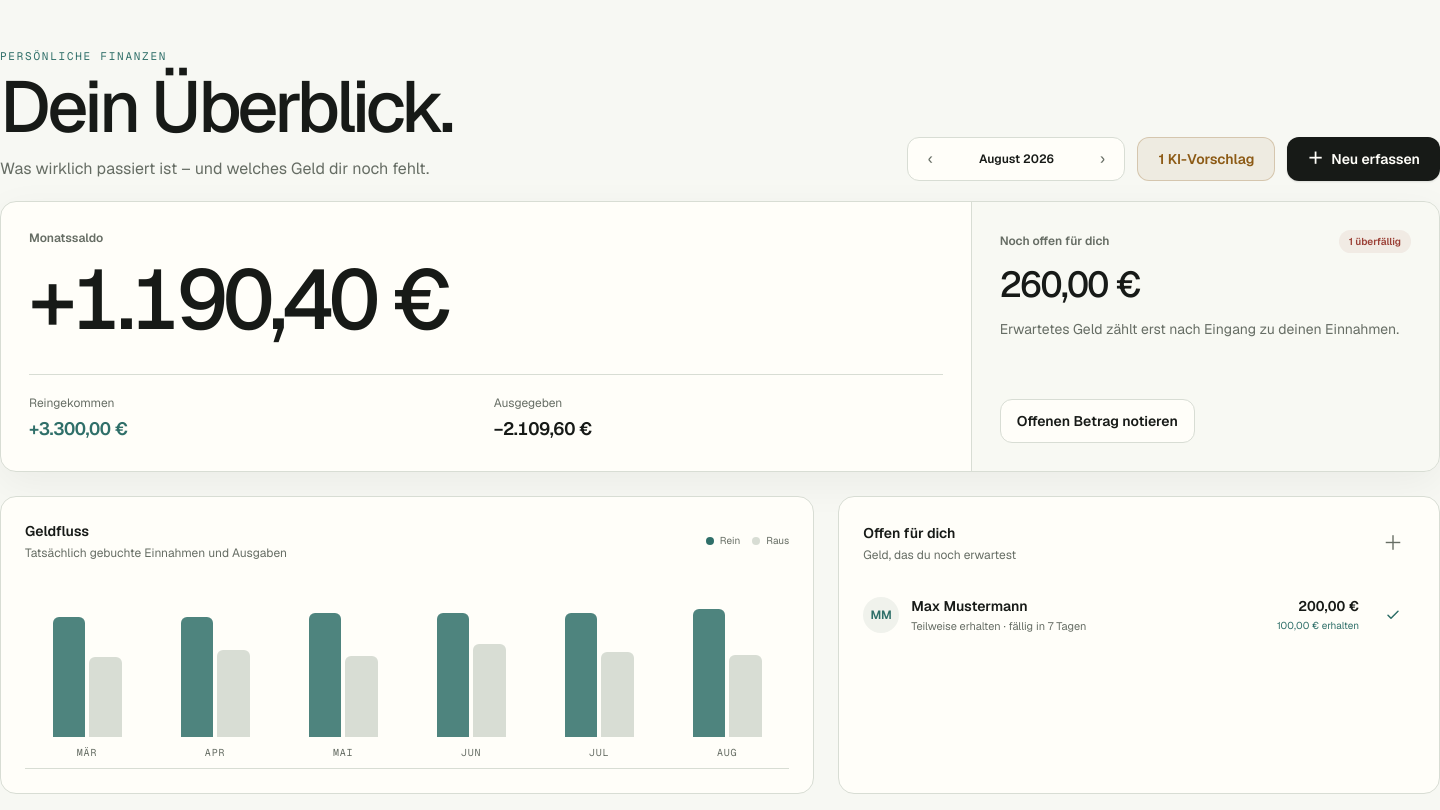
Test case: PersonalDashboard › lets the owner review and approve a safe agent proposal
Click the button "1 KI-Vorschlag". click: coordinates (1206, 159)
box: [1138,137,1275,181]
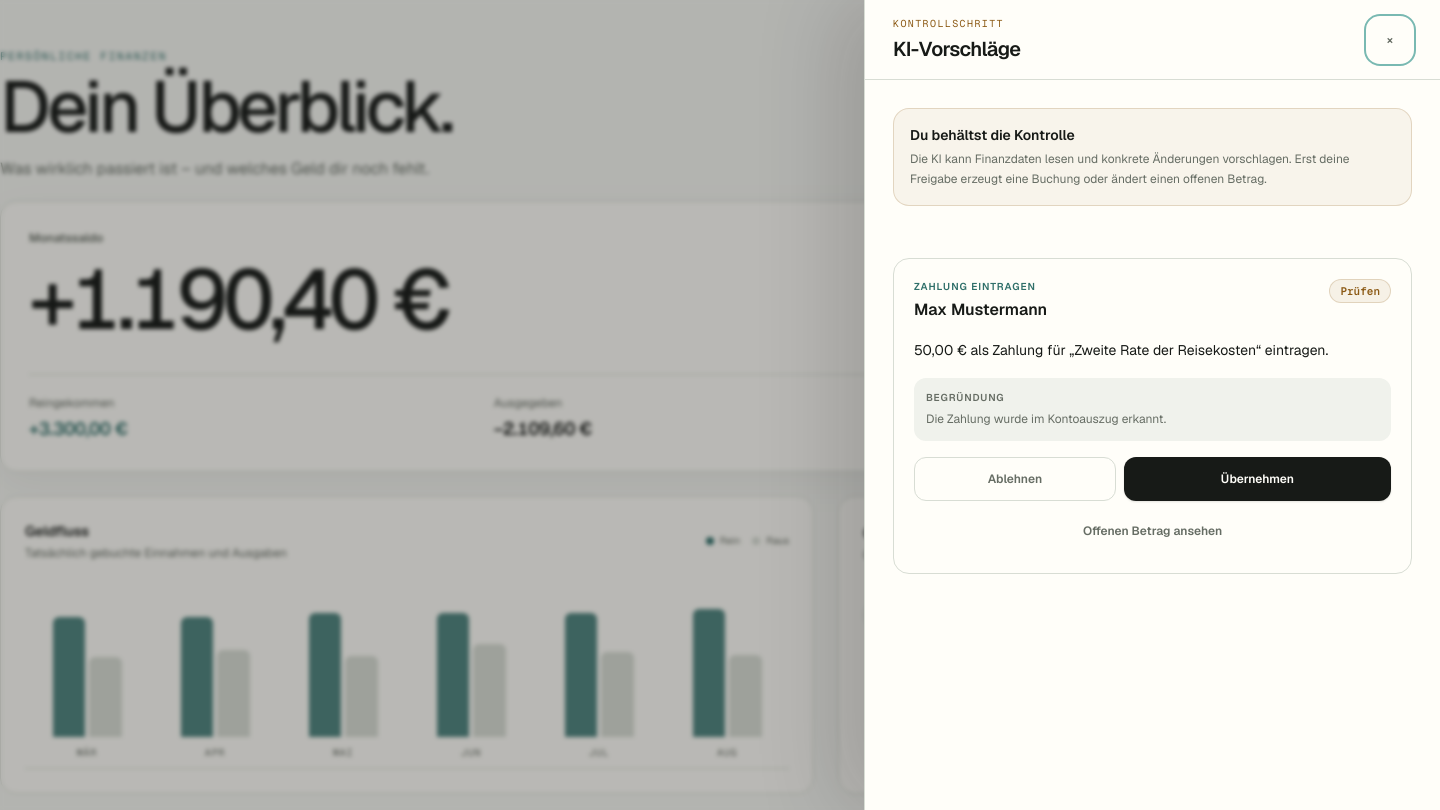
expect the text "Zweite Rate der Reisekosten" is shown: met, box [914,341,1328,359]
Click the button "Übernehmen". click: coordinates (1257, 479)
box: [1124,457,1391,501]
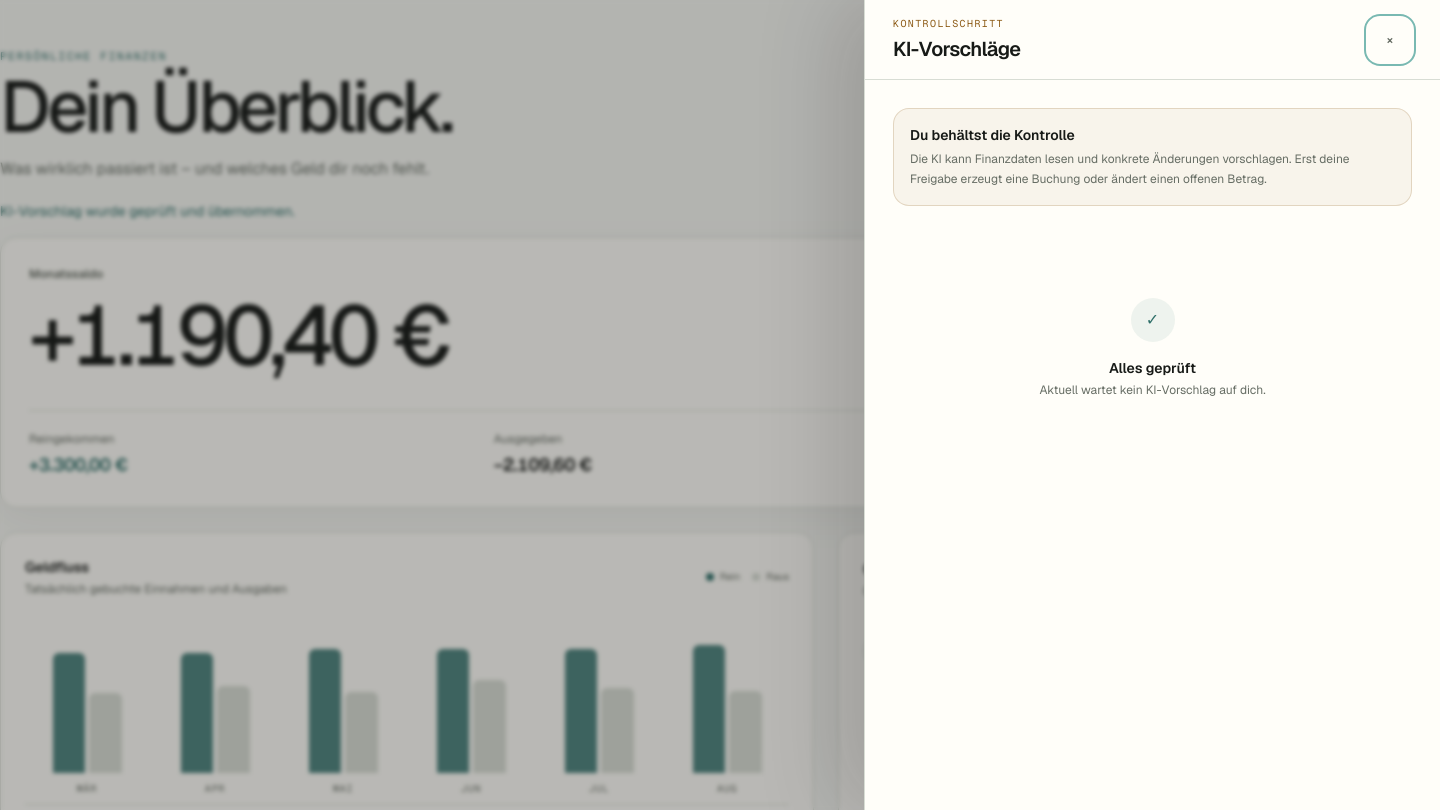
expect the text "KI-Vorschlag wurde geprüft und übernommen." is shown: met, box [0,202,295,220]
